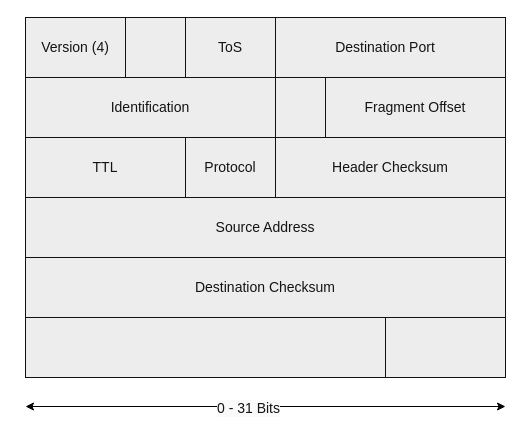
This 532x434 diagram has some shape labels left out. The shapes that lost their labels are listed below. From the top down, each one's box as (x1, y1, x2, y2) in pixels, then its label:
(124, 16, 186, 78): IHL
(274, 76, 326, 138): Flags
(24, 316, 386, 378): Options
(384, 316, 506, 378): Padding
